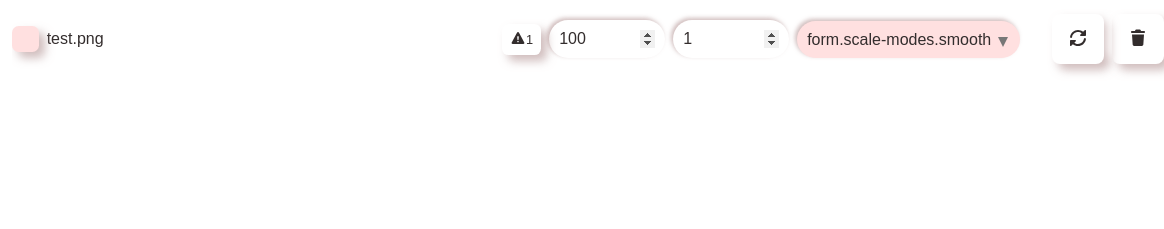
Test: InputFileList/Item › error display › renders error button and toggles error list
Note: Click to open error list
What coordinates should you click on to do the following:
click the button with test id "errors-test.png"
I would click on:
 (522, 39)
Its box is [502,24,541,54].
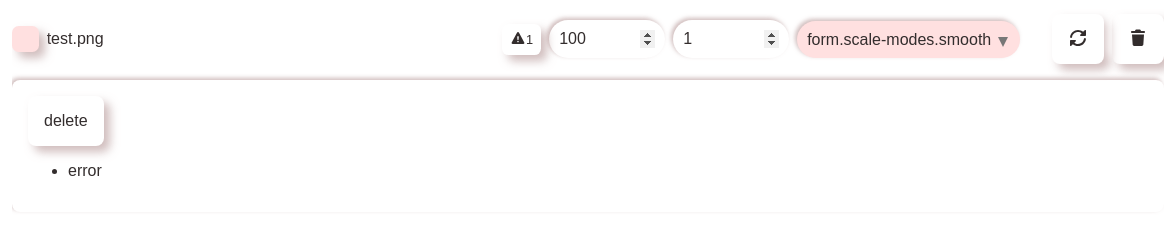
Now the element with test id "errors-list-test.png" is shown, box [12,80,1163,212]
